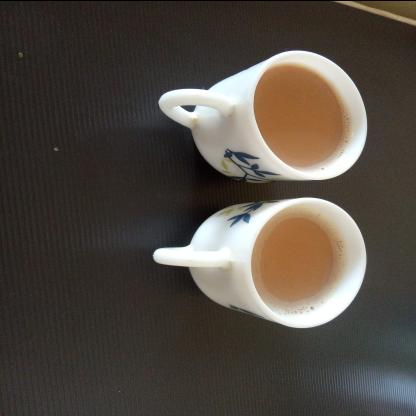cup: (120, 140, 302, 304), (1, 139, 108, 299)
